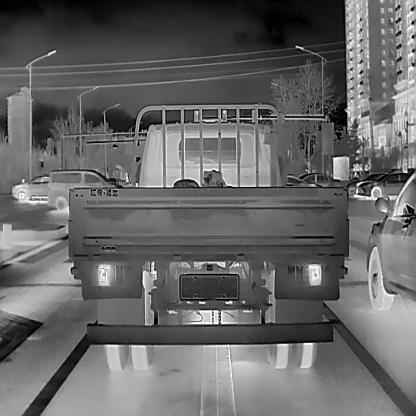car: (68, 103, 349, 370), (366, 172, 415, 310), (48, 168, 123, 209), (355, 171, 414, 199), (11, 174, 50, 201), (298, 172, 340, 189), (285, 173, 321, 189)
